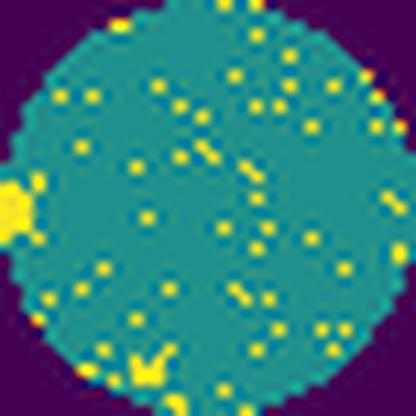Edge-Loc: (0, 166, 50, 251)
